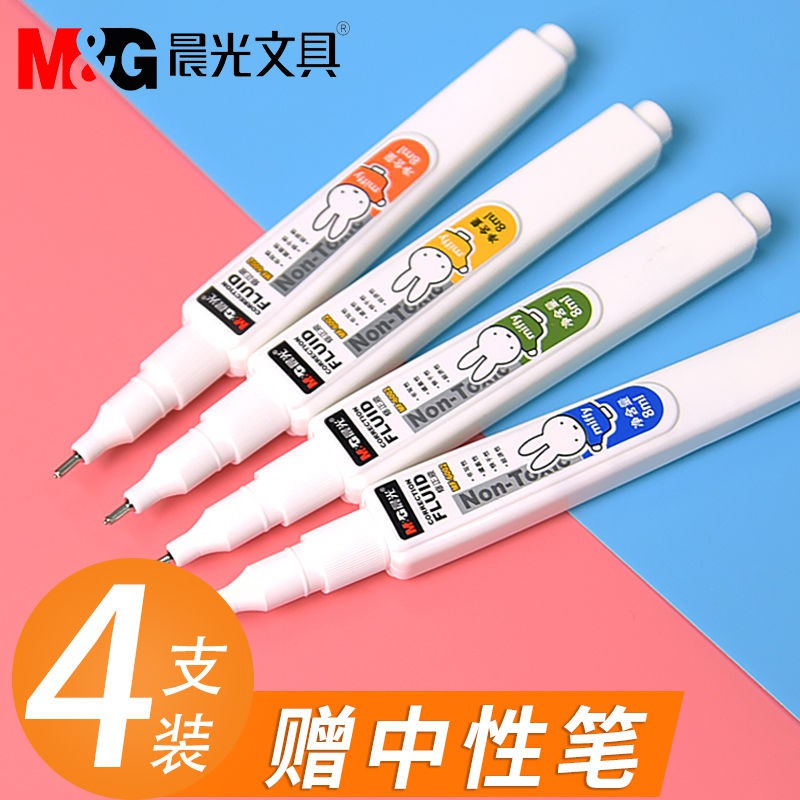Correction_fluid: (101, 94, 678, 529), (49, 19, 581, 484)
